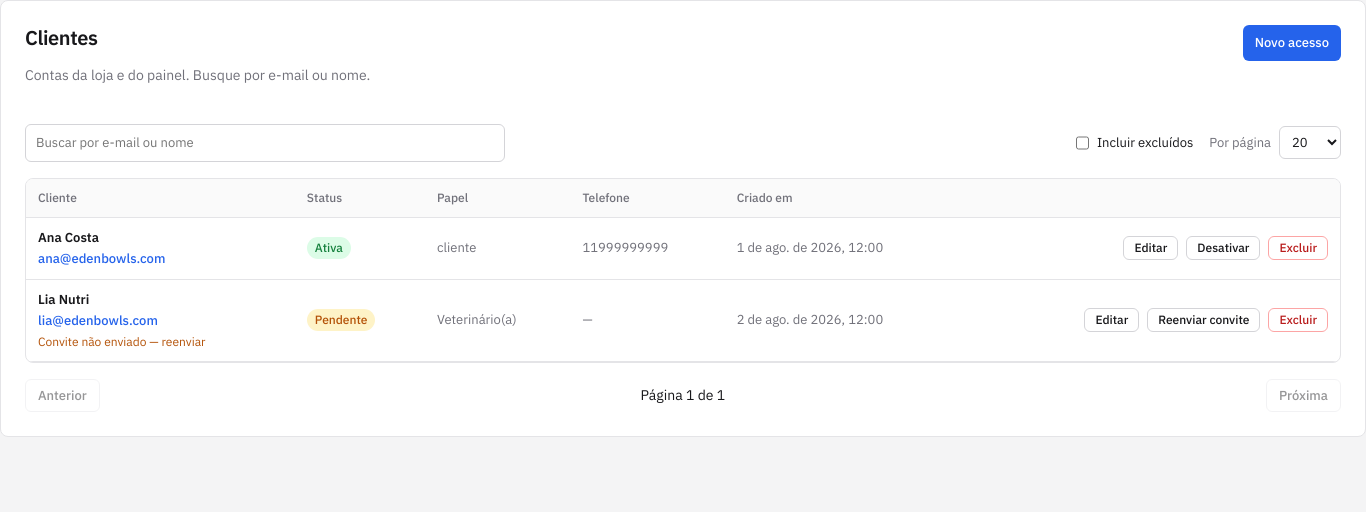
Test case: UsersPage access CRUD › resends an invitation for a pending staff account
This screenshot has width=1366, height=512.
Click the button "Reenviar convite".
click(1204, 320)  # box [1147,308,1260,332]
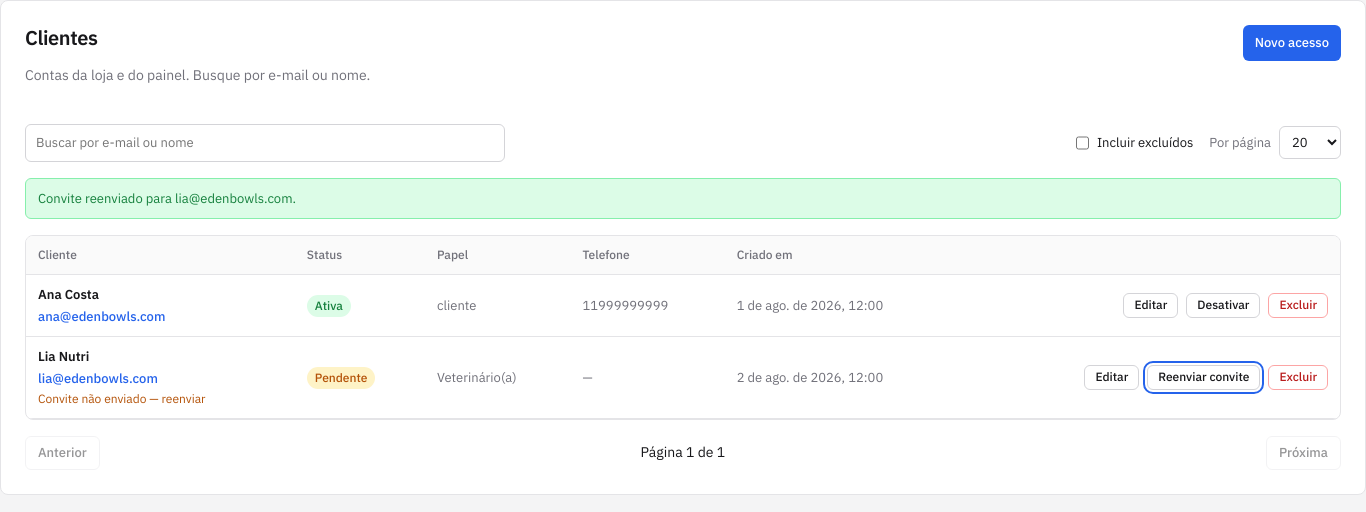
Now the text "Convite reenviado para lia@edenbowls.com." is shown, box [25,178,1341,219]
